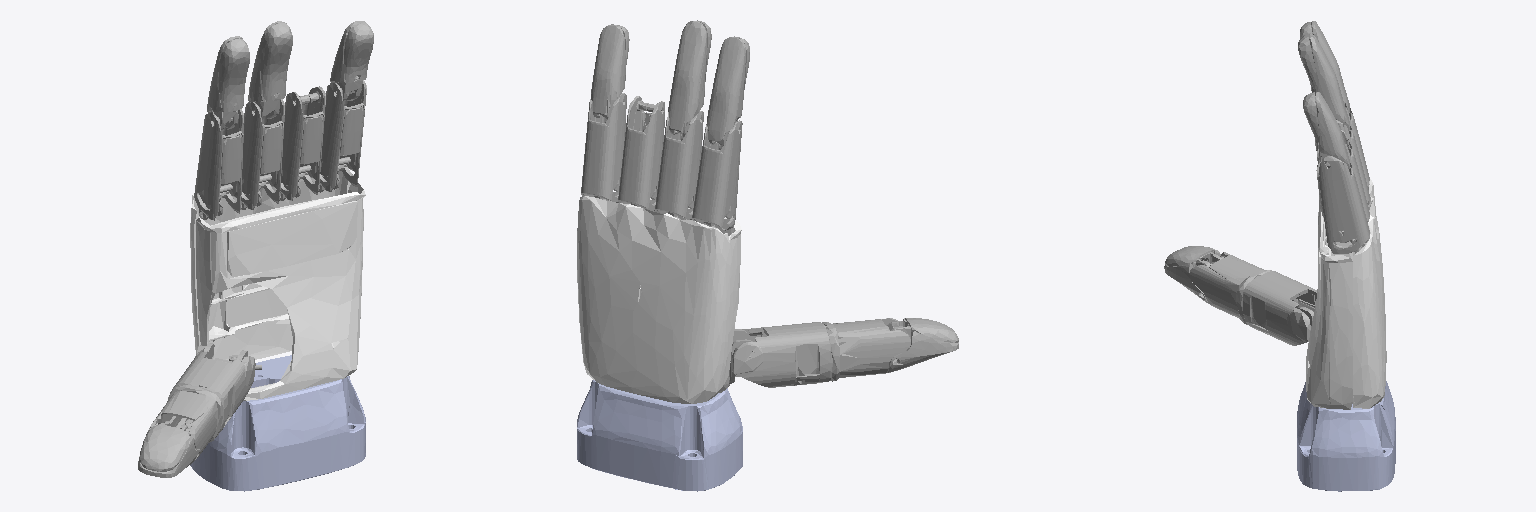
The robot description file, URDF, robot "hand3_v1":
<?xml version="1.0" encoding="utf-8"?>
<!-- This URDF was automatically created by SolidWorks to URDF Exporter! Originally created by Stephen Brawner (brawner@gmail.com) 
     Commit Version: 1.6.0-4-g7f85cfe  Build Version: 1.6.7995.38578
     For more information, please see http://wiki.ros.org/sw_urdf_exporter -->
<robot
  name="hand3_v1">
  <mujoco>
    <compiler
      meshdir="../../meshes/hand3_v1"
      balanceinertia="false"
      discardvisual="false"
      autolimits="true"
      inertiafromgeom="false"
      convexhull="false"
      boundmass="0.0001"
      usethread="true" />
  </mujoco>
  <link
    name="L_hand_base_link">
    <inertial>
      <origin
        xyz="0.00065934 0.00064662 0.02223161"
        rpy="0 0 0" />
      <mass
        value="0.05238695" />
      <inertia
        ixx="0.00001722"
        ixy="0.00000028"
        ixz="-0.00000043"
        iyy="0.00003682"
        iyz="-0.00000022"
        izz="0.00004011" />
    </inertial>
    <visual>
      <origin
        xyz="0 0 0"
        rpy="0 0 0" />
      <geometry>
        <mesh
          filename="../../../meshes/hand_v3/left/L_hand_base_link.STL" />
      </geometry>
      <material
        name="">
        <color
          rgba="0.792156862745098 0.819607843137255 0.933333333333333 1" />
      </material>
    </visual>
    <collision>
      <origin
        xyz="0 0 0"
        rpy="0 0 0" />
      <geometry>
        <mesh
          filename="../../../meshes/hand_v3/left/L_hand_base_link.STL" />
      </geometry>
    </collision>
  </link>
  <link
    name="L_palm_link">
    <inertial>
      <origin
        xyz="-0.00938866 -0.00221701 -0.0117814"
        rpy="0 0 0" />
      <mass
        value="0.38223591" />
      <inertia
        ixx="0.00022773"
        ixy="-0.00000169"
        ixz="0.00000005"
        iyy="0.00035269"
        iyz="-0.00001316"
        izz="0.00050349" />
    </inertial>
    <visual>
      <origin
        xyz="0 0 0"
        rpy="0 0 0" />
      <geometry>
        <mesh
          filename="../../../meshes/hand_v3/left/L_palm_link.STL" />
      </geometry>
      <material
        name="">
        <color
          rgba="1 1 1 1" />
      </material>
    </visual>
    <collision>
      <origin
        xyz="0 0 0"
        rpy="0 0 0" />
      <geometry>
        <mesh
          filename="../../../meshes/hand_v3/left/L_palm_link.STL" />
      </geometry>
    </collision>
  </link>
  <joint
    name="L_palm_joint"
    type="fixed">
    <origin
      xyz="0.00035572 -0.013196 0.099778"
      rpy="1.5708 -1.5708 0" />
    <parent
      link="L_hand_base_link" />
    <child
      link="L_palm_link" />
    <axis
      xyz="0 0 0" />
    <limit
      lower="0"
      upper="0"
      effort="0"
      velocity="0" />
  </joint>
  <link
    name="L_thumb_cmp_link">
    <inertial>
      <origin
        xyz="0.00563085 -0.00075 -0.00435852"
        rpy="0 0 0" />
      <mass
        value="0.01511033" />
      <inertia
        ixx="0.00000093"
        ixy="0.00000007"
        ixz="0.0000003"
        iyy="0.00000105"
        iyz="-0.00000002"
        izz="0.00000107" />
    </inertial>
    <visual>
      <origin
        xyz="0 0 0"
        rpy="0 0 0" />
      <geometry>
        <mesh
          filename="../../../meshes/hand_v3/left/L_thumb_cmp_link.STL" />
      </geometry>
      <material
        name="">
        <color
          rgba="0.752941176470588 0.752941176470588 0.752941176470588 1" />
      </material>
    </visual>
    <collision>
      <origin
        xyz="0 0 0"
        rpy="0 0 0" />
      <geometry>
        <mesh
          filename="../../../meshes/hand_v3/left/L_thumb_cmp_link.STL" />
      </geometry>
    </collision>
  </link>
  <joint
    name="L_thumb_cmp_joint"
    type="revolute">
    <origin
      xyz="-0.048578 0.028956 -0.0073648"
      rpy="-1.5708 -0.75224 1.5708" />
    <parent
      link="L_palm_link" />
    <child
      link="L_thumb_cmp_link" />
    <axis
      xyz="0 0 1" />
    <limit
      lower="-0.96"
      upper="0"
      effort="1.35"
      velocity="2.09" />
  </joint>
  <link
    name="L_thumb_mpp_link">
    <inertial>
      <origin
        xyz="0.03618423 -0.00195018 -0.00007704"
        rpy="0 0 0" />
      <mass
        value="0.06741198" />
      <inertia
        ixx="0.00000637"
        ixy="-0.00000267"
        ixz="0.00000003"
        iyy="0.00003296"
        iyz="0"
        izz="0.00003268" />
    </inertial>
    <visual>
      <origin
        xyz="0 0 0"
        rpy="0 0 0" />
      <geometry>
        <mesh
          filename="../../../meshes/hand_v3/left/L_thumb_mpp_link.STL" />
      </geometry>
      <material
        name="">
        <color
          rgba="0.752941176470588 0.752941176470588 0.752941176470588 1" />
      </material>
    </visual>
    <collision>
      <origin
        xyz="0 0 0"
        rpy="0 0 0" />
      <geometry>
        <mesh
          filename="../../../meshes/hand_v3/left/L_thumb_mpp_link.STL" />
      </geometry>
    </collision>
  </link>
  <joint
    name="L_thumb_mpp_joint"
    type="revolute">
    <origin
      xyz="0.012 -0.0010557 -0.010045"
      rpy="-1.6755 0 0" />
    <parent
      link="L_thumb_cmp_link" />
    <child
      link="L_thumb_mpp_link" />
    <axis
      xyz="0 0 1" />
    <limit
      lower="0"
      upper="1.04"
      effort="1.35"
      velocity="2.09" />
  </joint>
  <link
    name="L_thumb_ip_link">
    <inertial>
      <origin
        xyz="0.01353705 0.00416931 0.00000614"
        rpy="0 0 0" />
      <mass
        value="0.01731117" />
      <inertia
        ixx="0.00000104"
        ixy="-0.00000015"
        ixz="0"
        iyy="0.00000185"
        iyz="0"
        izz="0.00000176" />
    </inertial>
    <visual>
      <origin
        xyz="0 0 0"
        rpy="0 0 0" />
      <geometry>
        <mesh
          filename="../../../meshes/hand_v3/left/L_thumb_ip_link.STL" />
      </geometry>
      <material
        name="">
        <color
          rgba="0.752941176470588 0.752941176470588 0.752941176470588 1" />
      </material>
    </visual>
    <collision>
      <origin
        xyz="0 0 0"
        rpy="0 0 0" />
      <geometry>
        <mesh
          filename="../../../meshes/hand_v3/left/L_thumb_ip_link.STL" />
      </geometry>
    </collision>
  </link>
  <joint
    name="L_thumb_ip_joint"
    type="revolute">
    <origin
      xyz="0.075 -1.163E-05 0"
      rpy="0 0 0" />
    <parent
      link="L_thumb_mpp_link" />
    <child
      link="L_thumb_ip_link" />
    <axis
      xyz="0 0 1" />
    <limit
      lower="0"
      upper="1.05"
      effort="1.35"
      velocity="2.09" />
  </joint>
  <link
    name="L_index_mpp_link">
    <inertial>
      <origin
        xyz="0.01525314 -0.00181681 0.00015205"
        rpy="0 0 0" />
      <mass
        value="0.01470075" />
      <inertia
        ixx="0.00000087"
        ixy="0"
        ixz="0"
        iyy="0.00000357"
        iyz="0"
        izz="0.00000352" />
    </inertial>
    <visual>
      <origin
        xyz="0 0 0"
        rpy="0 0 0" />
      <geometry>
        <mesh
          filename="../../../meshes/hand_v3/left/L_index_mpp_link.STL" />
      </geometry>
      <material
        name="">
        <color
          rgba="0.752941176470588 0.752941176470588 0.752941176470588 1" />
      </material>
    </visual>
    <collision>
      <origin
        xyz="0 0 0"
        rpy="0 0 0" />
      <geometry>
        <mesh
          filename="../../../meshes/hand_v3/left/L_index_mpp_link.STL" />
      </geometry>
    </collision>
  </link>
  <joint
    name="L_index_mpp_joint"
    type="revolute">
    <origin
      xyz="0.041817 0.030769 -0.011696"
      rpy="1.5708 -0.18118 0.020071" />
    <parent
      link="L_palm_link" />
    <child
      link="L_index_mpp_link" />
    <axis
      xyz="0 0 1" />
    <limit
      lower="0"
      upper="1.46"
      effort="1.35"
      velocity="2.09" />
  </joint>
  <link
    name="L_index_ip_link">
    <inertial>
      <origin
        xyz="0.01680857 -0.00117535 0"
        rpy="0 0 0" />
      <mass
        value="0.01334933" />
      <inertia
        ixx="0.00000042"
        ixy="-0.00000029"
        ixz="0"
        iyy="0.00000262"
        iyz="0"
        izz="0.00000261" />
    </inertial>
    <visual>
      <origin
        xyz="0 0 0"
        rpy="0 0 0" />
      <geometry>
        <mesh
          filename="../../../meshes/hand_v3/left/L_index_ip_link.STL" />
      </geometry>
      <material
        name="">
        <color
          rgba="0.752941176470588 0.752941176470588 0.752941176470588 1" />
      </material>
    </visual>
    <collision>
      <origin
        xyz="0 0 0"
        rpy="0 0 0" />
      <geometry>
        <mesh
          filename="../../../meshes/hand_v3/left/L_index_ip_link.STL" />
      </geometry>
    </collision>
  </link>
  <joint
    name="L_index_ip_joint"
    type="revolute">
    <origin
      xyz="0.0388 0 0"
      rpy="0 0 -0.014509" />
    <parent
      link="L_index_mpp_link" />
    <child
      link="L_index_ip_link" />
    <axis
      xyz="0 0 1" />
    <limit
      lower="0"
      upper="1.62"
      effort="1.35"
      velocity="2.09" />
  </joint>
  <link
    name="L_middle_mpp_link">
    <inertial>
      <origin
        xyz="0.01476009 -0.00171481 0.00012869"
        rpy="0 0 0" />
      <mass
        value="0.01430214" />
      <inertia
        ixx="0.00000086"
        ixy="-0.00000003"
        ixz="0"
        iyy="0.00000344"
        iyz="0"
        izz="0.00000339" />
    </inertial>
    <visual>
      <origin
        xyz="0 0 0"
        rpy="0 0 0" />
      <geometry>
        <mesh
          filename="../../../meshes/hand_v3/left/L_middle_mpp_link.STL" />
      </geometry>
      <material
        name="">
        <color
          rgba="0.752941176470588 0.752941176470588 0.752941176470588 1" />
      </material>
    </visual>
    <collision>
      <origin
        xyz="0 0 0"
        rpy="0 0 0" />
      <geometry>
        <mesh
          filename="../../../meshes/hand_v3/left/L_middle_mpp_link.STL" />
      </geometry>
    </collision>
  </link>
  <joint
    name="L_middle_mpp_joint"
    type="revolute">
    <origin
      xyz="0.042022 0.010356 -0.011696"
      rpy="1.5708 -0.18118 0" />
    <parent
      link="L_palm_link" />
    <child
      link="L_middle_mpp_link" />
    <axis
      xyz="0 0 1" />
    <limit
      lower="0"
      upper="1.46"
      effort="1.35"
      velocity="2.09" />
  </joint>
  <link
    name="L_middle_ip_link">
    <inertial>
      <origin
        xyz="0.01771317 -0.00109666 0.0000256"
        rpy="0 0 0" />
      <mass
        value="0.0148881" />
      <inertia
        ixx="0.00000047"
        ixy="-0.00000038"
        ixz="0"
        iyy="0.00000344"
        iyz="0"
        izz="0.00000344" />
    </inertial>
    <visual>
      <origin
        xyz="0 0 0"
        rpy="0 0 0" />
      <geometry>
        <mesh
          filename="../../../meshes/hand_v3/left/L_middle_ip_link.STL" />
      </geometry>
      <material
        name="">
        <color
          rgba="0.752941176470588 0.752941176470588 0.752941176470588 1" />
      </material>
    </visual>
    <collision>
      <origin
        xyz="0 0 0"
        rpy="0 0 0" />
      <geometry>
        <mesh
          filename="../../../meshes/hand_v3/left/L_middle_ip_link.STL" />
      </geometry>
    </collision>
  </link>
  <joint
    name="L_middle_ip_joint"
    type="revolute">
    <origin
      xyz="0.0388 0 0"
      rpy="0 0 -0.012066" />
    <parent
      link="L_middle_mpp_link" />
    <child
      link="L_middle_ip_link" />
    <axis
      xyz="0 0 1" />
    <limit
      lower="0"
      upper="1.62"
      effort="1.35"
      velocity="2.09" />
  </joint>
  <link
    name="L_ring_mpp_link">
    <inertial>
      <origin
        xyz="0.01475954 -0.00171495 0.00012869"
        rpy="0 0 0" />
      <mass
        value="0.01430214" />
      <inertia
        ixx="0.00000086"
        ixy="-0.00000003"
        ixz="0"
        iyy="0.00000344"
        iyz="0"
        izz="0.00000339" />
    </inertial>
    <visual>
      <origin
        xyz="0 0 0"
        rpy="0 0 0" />
      <geometry>
        <mesh
          filename="../../../meshes/hand_v3/left/L_ring_mpp_link.STL" />
      </geometry>
      <material
        name="">
        <color
          rgba="0.752941176470588 0.752941176470588 0.752941176470588 1" />
      </material>
    </visual>
    <collision>
      <origin
        xyz="0 0 0"
        rpy="0 0 0" />
      <geometry>
        <mesh
          filename="../../../meshes/hand_v3/left/L_ring_mpp_link.STL" />
      </geometry>
    </collision>
  </link>
  <joint
    name="L_ring_mpp_joint"
    type="revolute">
    <origin
      xyz="0.041817 -0.010057 -0.011696"
      rpy="1.5708 -0.18118 -0.020071" />
    <parent
      link="L_palm_link" />
    <child
      link="L_ring_mpp_link" />
    <axis
      xyz="0 0 1" />
    <limit
      lower="0"
      upper="1.46"
      effort="1.35"
      velocity="2.09" />
  </joint>
  <link
    name="L_ring_ip_link">
    <inertial>
      <origin
        xyz="0.01615432 -0.00130235 0.00002763"
        rpy="0 0 0" />
      <mass
        value="0.01374794" />
      <inertia
        ixx="0.00000043"
        ixy="-0.00000033"
        ixz="0"
        iyy="0.00000282"
        iyz="0"
        izz="0.00000281" />
    </inertial>
    <visual>
      <origin
        xyz="0 0 0"
        rpy="0 0 0" />
      <geometry>
        <mesh
          filename="../../../meshes/hand_v3/left/L_ring_ip_link.STL" />
      </geometry>
      <material
        name="">
        <color
          rgba="0.752941176470588 0.752941176470588 0.752941176470588 1" />
      </material>
    </visual>
    <collision>
      <origin
        xyz="0 0 0"
        rpy="0 0 0" />
      <geometry>
        <mesh
          filename="../../../meshes/hand_v3/left/L_ring_ip_link.STL" />
      </geometry>
    </collision>
  </link>
  <joint
    name="L_ring_ip_joint"
    type="revolute">
    <origin
      xyz="0.0388 0 0"
      rpy="0 0 -0.014509" />
    <parent
      link="L_ring_mpp_link" />
    <child
      link="L_ring_ip_link" />
    <axis
      xyz="0 0 1" />
    <limit
      lower="0"
      upper="1.62"
      effort="1.35"
      velocity="2.09" />
  </joint>
  <link
    name="L_little_mpp_link">
    <inertial>
      <origin
        xyz="0.0147588 -0.00171514 0.00012869"
        rpy="0 0 0" />
      <mass
        value="0.01430214" />
      <inertia
        ixx="0.00000086"
        ixy="-0.00000003"
        ixz="0"
        iyy="0.00000344"
        iyz="0"
        izz="0.00000339" />
    </inertial>
    <visual>
      <origin
        xyz="0 0 0"
        rpy="0 0 0" />
      <geometry>
        <mesh
          filename="../../../meshes/hand_v3/left/L_little_mpp_link.STL" />
      </geometry>
      <material
        name="">
        <color
          rgba="0.752941176470588 0.752941176470588 0.752941176470588 1" />
      </material>
    </visual>
    <collision>
      <origin
        xyz="0 0 0"
        rpy="0 0 0" />
      <geometry>
        <mesh
          filename="../../../meshes/hand_v3/left/L_little_mpp_link.STL" />
      </geometry>
    </collision>
  </link>
  <joint
    name="L_little_mpp_joint"
    type="revolute">
    <origin
      xyz="0.041203 -0.030462 -0.011696"
      rpy="1.5708 -0.18118 -0.040143" />
    <parent
      link="L_palm_link" />
    <child
      link="L_little_mpp_link" />
    <axis
      xyz="0 0 1" />
    <limit
      lower="0"
      upper="1.46"
      effort="1.35"
      velocity="2.09" />
  </joint>
  <link
    name="L_little_ip_link">
    <inertial>
      <origin
        xyz="0.01303327 -0.00143438 0.0000295"
        rpy="0 0 0" />
      <mass
        value="0.01179268" />
      <inertia
        ixx="0.00000034"
        ixy="-0.00000023"
        ixz="0"
        iyy="0.00000179"
        iyz="0"
        izz="0.00000178" />
    </inertial>
    <visual>
      <origin
        xyz="0 0 0"
        rpy="0 0 0" />
      <geometry>
        <mesh
          filename="../../../meshes/hand_v3/left/L_little_ip_link.STL" />
      </geometry>
      <material
        name="">
        <color
          rgba="0.752941176470588 0.752941176470588 0.752941176470588 1" />
      </material>
    </visual>
    <collision>
      <origin
        xyz="0 0 0"
        rpy="0 0 0" />
      <geometry>
        <mesh
          filename="../../../meshes/hand_v3/left/L_little_ip_link.STL" />
      </geometry>
    </collision>
  </link>
  <joint
    name="L_little_ip_joint"
    type="revolute">
    <origin
      xyz="0.0388 0 0"
      rpy="0 0 -0.014509" />
    <parent
      link="L_little_mpp_link" />
    <child
      link="L_little_ip_link" />
    <axis
      xyz="0 0 1" />
    <limit
      lower="0"
      upper="1.62"
      effort="1.35"
      velocity="2.09" />
  </joint>
</robot>

--- Render facts (derived) ---
The picture shows the robot from 3 angles, left to right: view 1: azimuth 30°, elevation 25°; view 2: azimuth 150°, elevation 25°; view 3: azimuth 270°, elevation 25°; orthographic projection.
Robot: hand3_v1 — 13 links, 12 joints (11 revolute, 1 fixed); root link L_hand_base_link; default pose: every joint at zero.
Links seen in each view (by area): view 1: L_palm_link, L_hand_base_link, L_thumb_mpp_link, L_index_mpp_link, L_ring_mpp_link, L_little_mpp_link, L_middle_mpp_link, L_middle_ip_link, L_index_ip_link, L_thumb_ip_link, L_little_ip_link; view 2: L_palm_link, L_hand_base_link, L_thumb_mpp_link, L_ring_mpp_link, L_index_mpp_link, L_middle_mpp_link, L_little_mpp_link, L_middle_ip_link, L_index_ip_link, L_little_ip_link, L_thumb_ip_link; view 3: L_palm_link, L_hand_base_link, L_thumb_mpp_link, L_little_mpp_link, L_middle_ip_link, L_little_ip_link, L_thumb_ip_link, L_index_ip_link.
Link boxes in pixels (x1,y1,x2,y2): L_palm_link: (190, 171, 365, 400); L_hand_base_link: (190, 355, 365, 491); L_thumb_mpp_link: (148, 345, 255, 455); L_index_mpp_link: (194, 109, 243, 220); L_ring_mpp_link: (280, 86, 325, 200); L_little_mpp_link: (319, 80, 366, 192); L_middle_mpp_link: (241, 99, 284, 209); L_middle_ip_link: (248, 21, 292, 119); L_index_ip_link: (207, 36, 249, 129); L_thumb_ip_link: (138, 421, 200, 477); L_little_ip_link: (330, 21, 373, 101); L_palm_link: (577, 192, 741, 403); L_hand_base_link: (577, 380, 742, 491); L_thumb_mpp_link: (732, 318, 910, 387); L_ring_mpp_link: (618, 96, 664, 211); L_index_mpp_link: (692, 120, 742, 230); L_middle_mpp_link: (655, 111, 703, 219); L_little_mpp_link: (581, 93, 626, 202); L_middle_ip_link: (668, 20, 711, 136); L_index_ip_link: (707, 36, 749, 146); L_little_ip_link: (591, 24, 629, 119); L_thumb_ip_link: (887, 318, 958, 372); L_palm_link: (1306, 179, 1386, 409); L_hand_base_link: (1297, 381, 1395, 491); L_thumb_mpp_link: (1189, 252, 1316, 345); L_little_mpp_link: (1316, 152, 1369, 253); L_middle_ip_link: (1298, 34, 1349, 130); L_little_ip_link: (1303, 92, 1349, 168); L_thumb_ip_link: (1164, 246, 1223, 303); L_index_ip_link: (1300, 21, 1349, 112).
Bounding box of the posed robot: 0.1586 × 0.1145 × 0.2265 m (x, y, z).
12 mesh visuals loaded from 13 distinct referenced files (12 binary STL); not drawn: 1 (reference not matched to a file when rendering).
